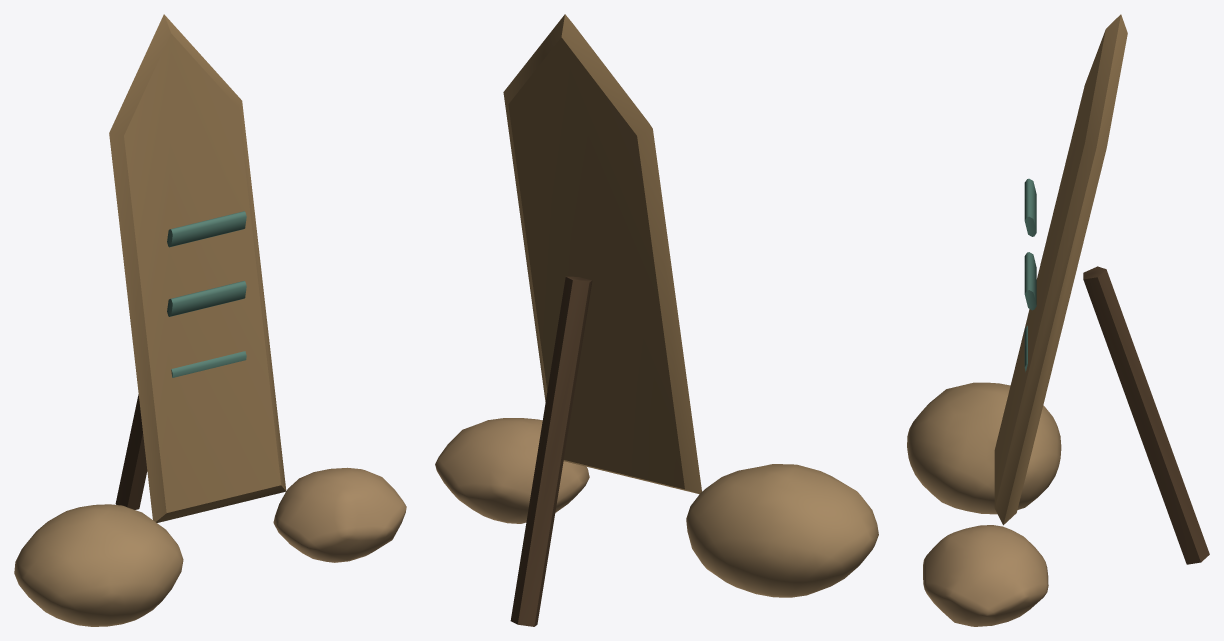
The model's file is crew_sign_c.glb.
3 renders of one model, left to right at view 1: azimuth 30°, elevation 25°; view 2: azimuth 150°, elevation 25°; view 3: azimuth 270°, elevation 25°, orthographic. The views are drawn at different scales.
Visible parts, largest first — view 1: Surface; view 2: Surface; view 3: Surface.
Boxes of the visible parts, x1,y1,x2,y2 form: Surface: [14, 14, 406, 626]; Surface: [435, 14, 878, 626]; Surface: [907, 14, 1209, 626].
Bounding box in the file's own units: 1.03 × 1.36 × 0.6735.
